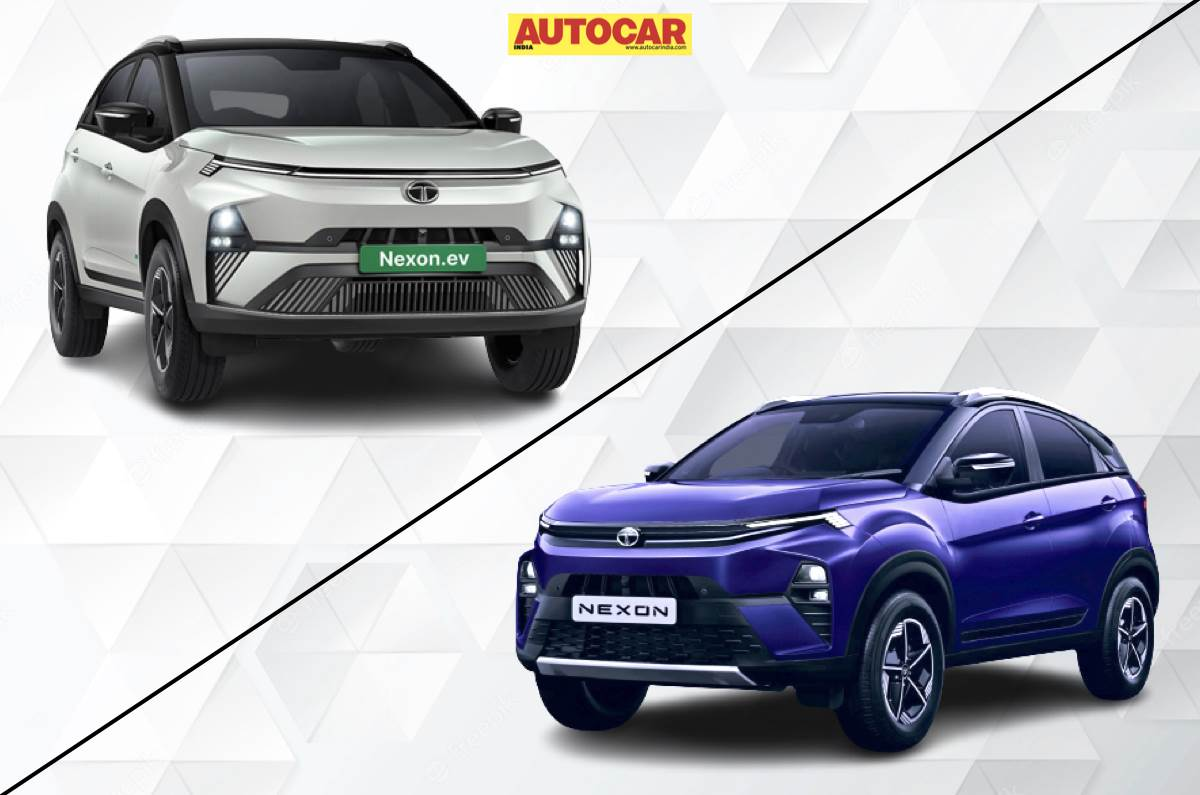Tata Nexon: (512, 388, 1164, 759), (40, 31, 594, 409)
